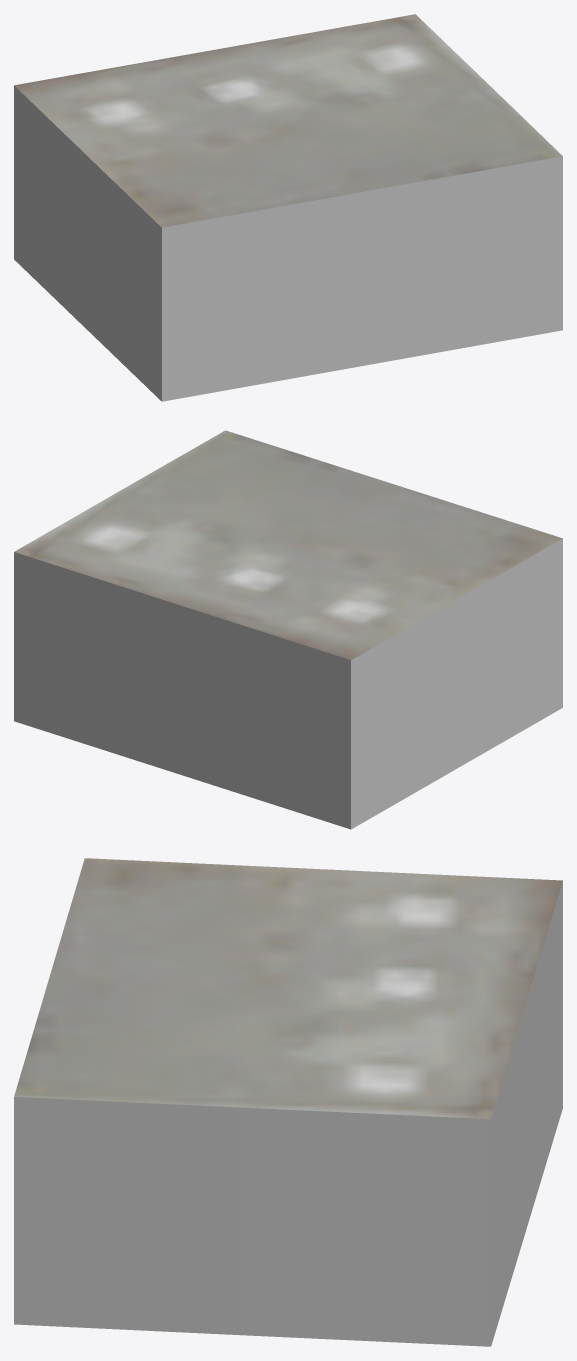
Rendered from DEBW_0010007Tx4I.gltf.
The picture shows the model from 3 angles, top to bottom: view 1: azimuth 30°, elevation 25°; view 2: azimuth 150°, elevation 25°; view 3: azimuth 270°, elevation 25°; orthographic projection. The views are drawn at different scales.
Visible parts, largest first — view 1: Z_UP; view 2: Z_UP; view 3: Z_UP.
Part boxes in pixels (box(x1,y1,x2,y2)): Z_UP: box(14, 14, 562, 401); Z_UP: box(14, 430, 562, 829); Z_UP: box(14, 858, 562, 1346).
Bounding box in the file's own units: 11.34 × 4.61 × 10.08.
2 materials, 1 textured.
